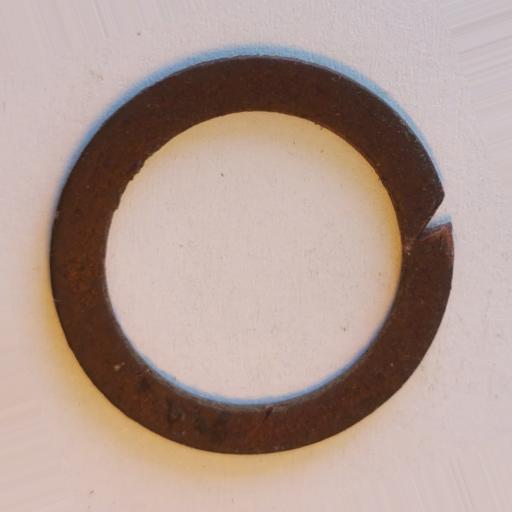defect: (407, 191, 451, 250), (262, 405, 274, 423)
